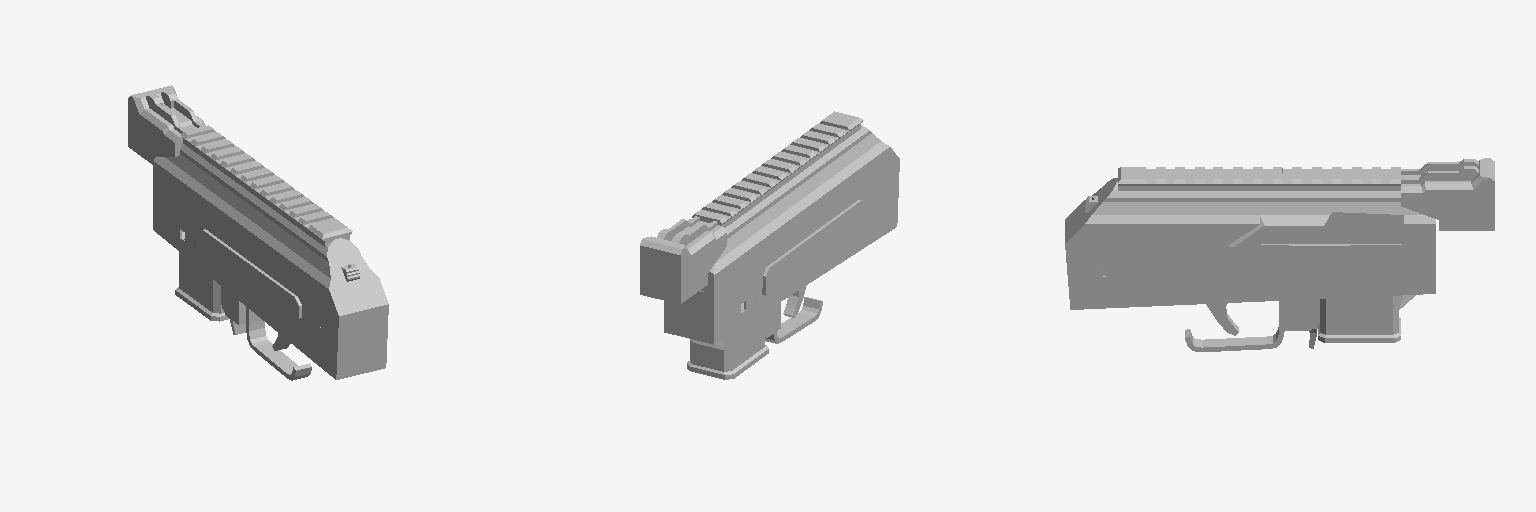
File: Reciever.obj
The picture shows the model from 3 angles: view 1: azimuth 30°, elevation 25°; view 2: azimuth 150°, elevation 25°; view 3: azimuth 270°, elevation 25°; orthographic projection.
Parts seen in each view (by area): view 1: Cube.001_Cube.003; view 2: Cube.001_Cube.003; view 3: Cube.001_Cube.003.
Part boxes in pixels (left/top/right/bottom): Cube.001_Cube.003: left=128, top=85, right=388, bottom=380; Cube.001_Cube.003: left=640, top=111, right=899, bottom=379; Cube.001_Cube.003: left=1065, top=158, right=1494, bottom=351.
Bounding box in the file's own units: 0.059 × 0.1887 × 0.3987.